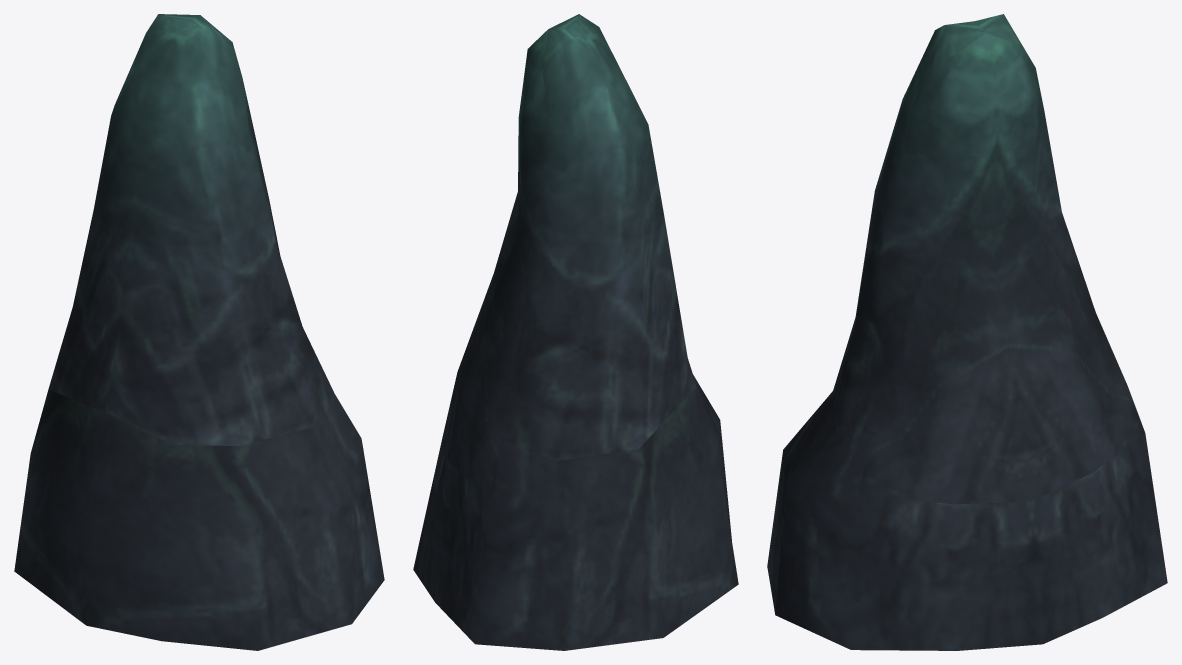
The model's file is M3_R_rushizhu003.FBX.
The picture shows the model from 3 angles, left to right: view 1: azimuth 30°, elevation 25°; view 2: azimuth 150°, elevation 25°; view 3: azimuth 270°, elevation 25°; orthographic projection. The views are drawn at different scales.
Visible parts, largest first — view 1: M3_R_rushizhu003; view 2: M3_R_rushizhu003; view 3: M3_R_rushizhu003.
Part boxes in pixels (x1=…): M3_R_rushizhu003: x1=14, y1=14, x2=384, y2=650; M3_R_rushizhu003: x1=413, y1=14, x2=738, y2=650; M3_R_rushizhu003: x1=767, y1=14, x2=1167, y2=650.
Bounding box in the file's own units: 132 × 253 × 163.
